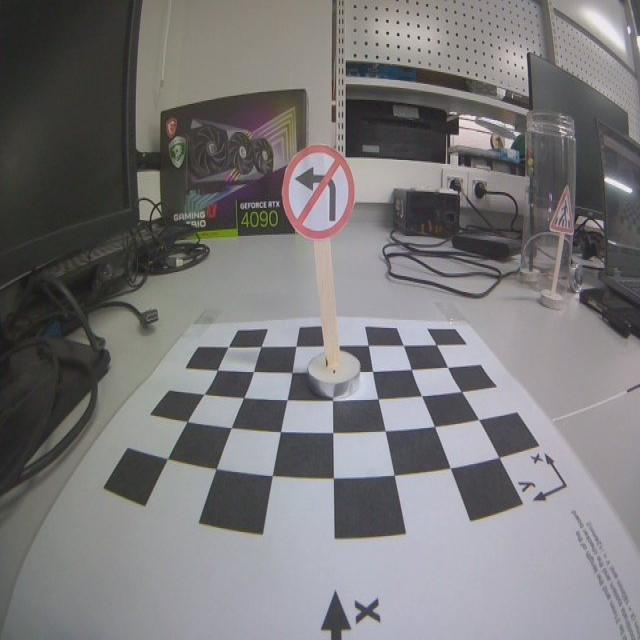Dilarang Belok Kiri: (282, 146, 354, 241)
